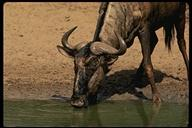antelope: (54, 2, 189, 109)
water: (6, 108, 187, 125)
